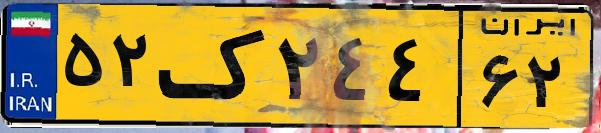2: (270, 28, 330, 110), (525, 38, 570, 115), (110, 28, 158, 98)
4: (385, 28, 445, 110), (330, 28, 385, 110)
5: (57, 26, 110, 100)
6: (475, 38, 525, 113)
ک: (158, 12, 270, 120)
